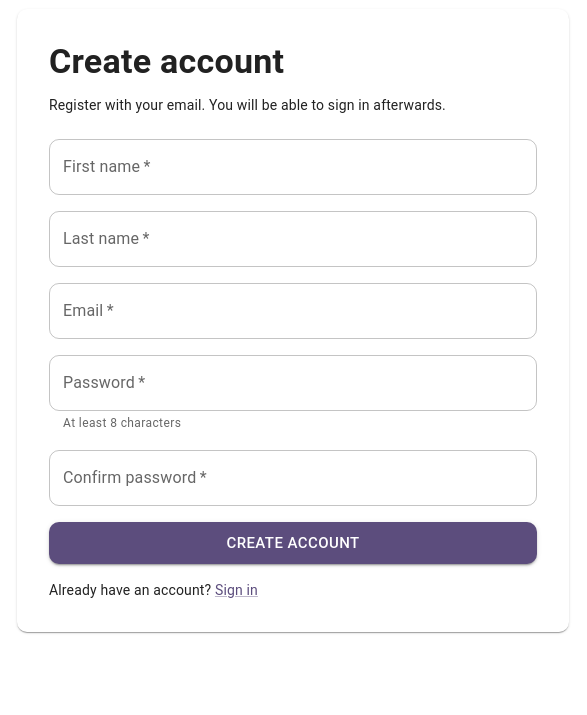
SignupPage › validates password match
Type "Ada" into the field labelled "First name *". click: (293, 167)
box: [49,139,537,195]
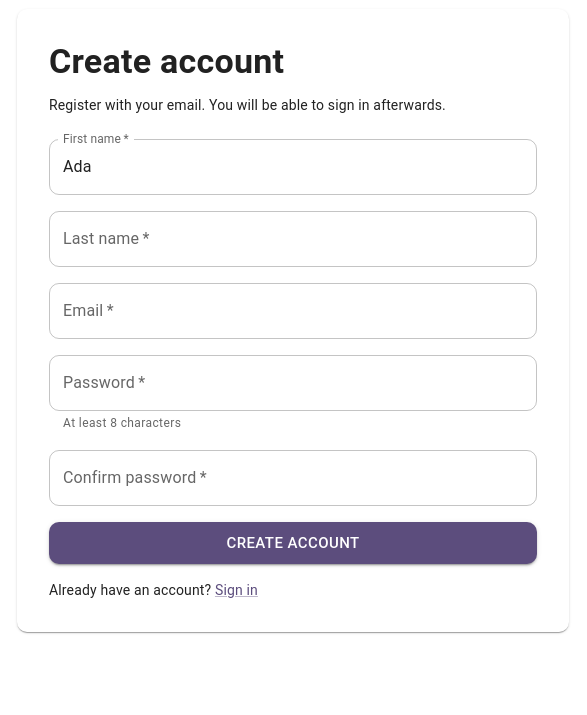
Type "Lovelace" into the field labelled "Last name *". click: (293, 239)
box: [49,211,537,267]
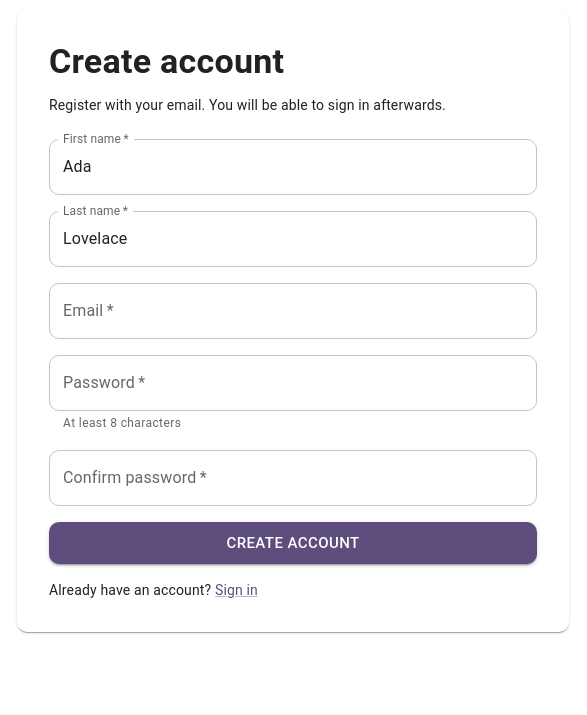
Type "a@b.c" into the field labelled "Email *". click: (293, 311)
box: [49,283,537,339]
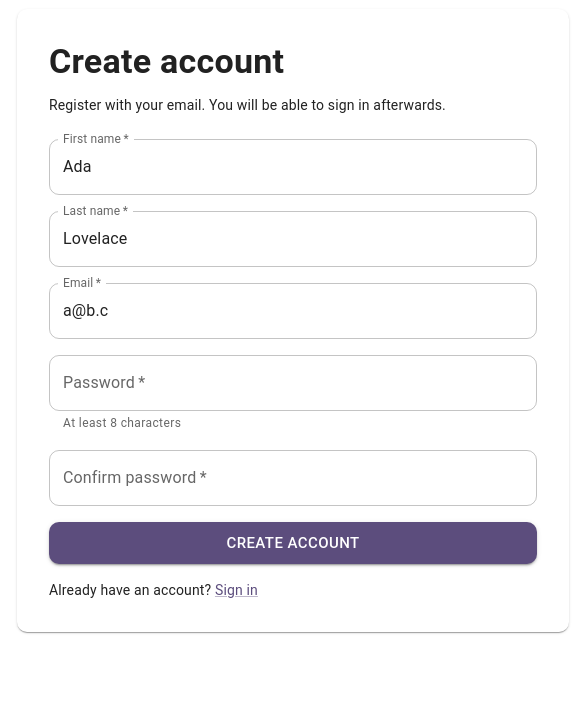
Type "longenough1" into the password field labelled "Password *". click: (293, 383)
box: [49,355,537,411]
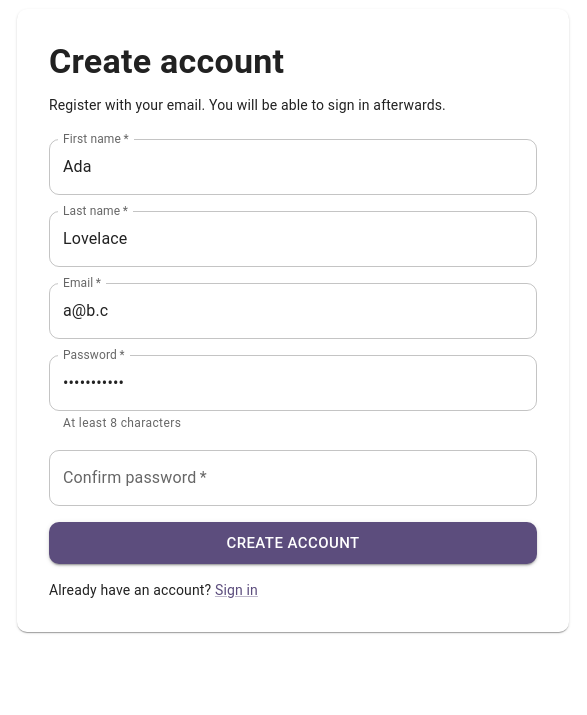
Type "longenough2" into the password field labelled "Confirm password *". click: (293, 478)
box: [49,450,537,506]
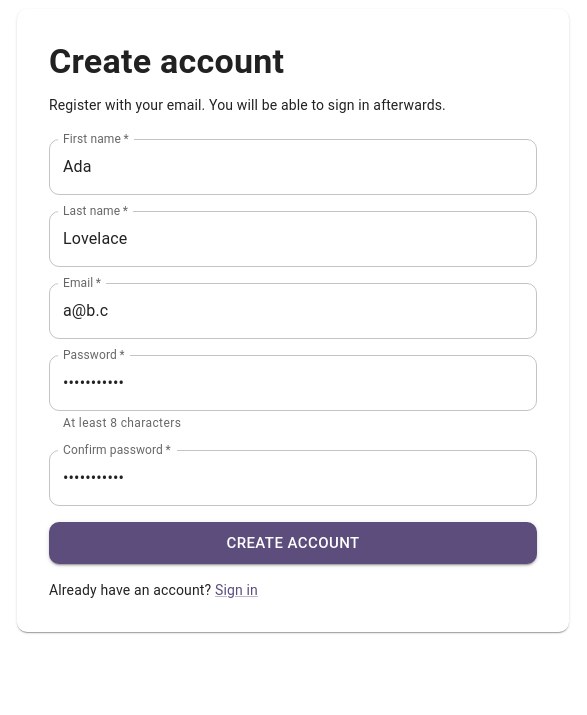
Click the button "Create account". click: (293, 543)
box: [49,522,537,564]
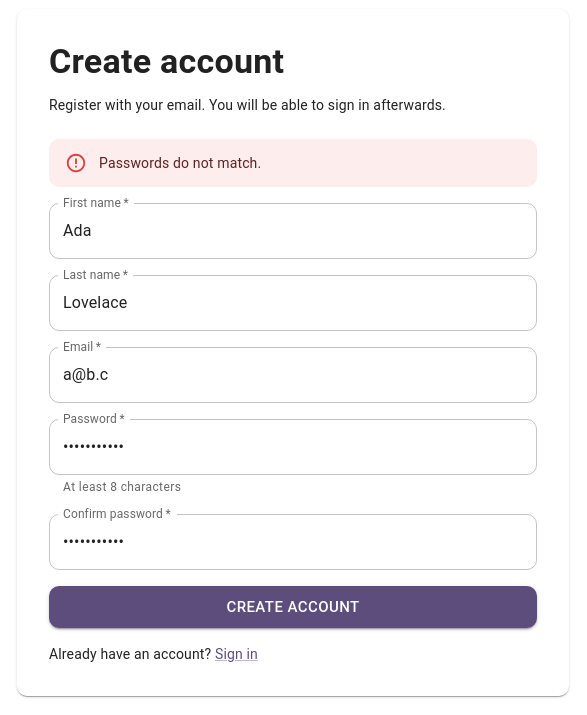
expect the text "Passwords do not match." is shown: met, box [99,155,261,171]
